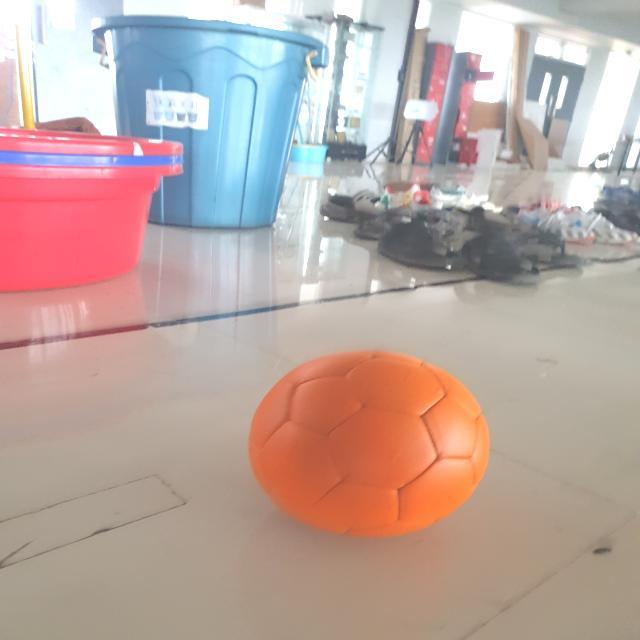bola: (247, 348, 496, 544)
